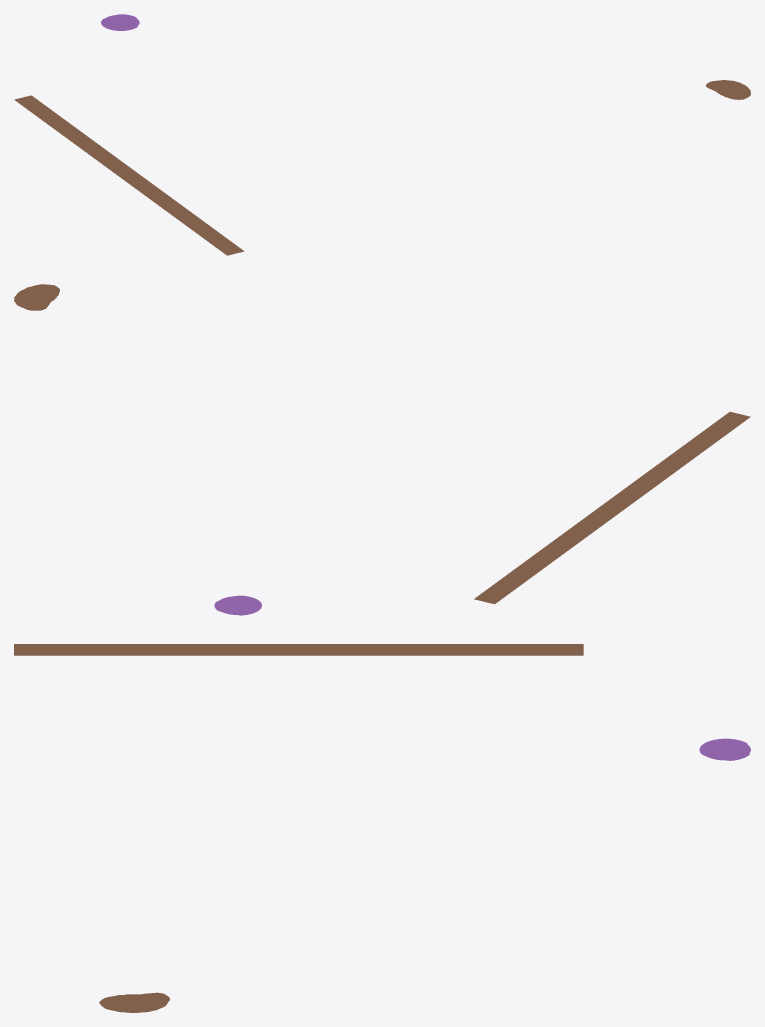
File: ChocolateFactory_Water.fbx
3 renders of one model, top to bottom at view 1: azimuth 30°, elevation 25°; view 2: azimuth 150°, elevation 25°; view 3: azimuth 270°, elevation 25°, orthographic. The views are drawn at different scales.
Parts seen in each view (by area): view 1: CHO_Water_ChocolateRiver, CHO_Water_ChocolateSpill_East, CHO_Water_WitchSludge_North; view 2: CHO_Water_ChocolateRiver, CHO_Water_ChocolateSpill_East, CHO_Water_WitchSludge_North; view 3: CHO_Water_ChocolateRiver, CHO_Water_ChocolateSpill_East, CHO_Water_WitchSludge_North.
Boxes of the visible parts, x1,y1,x2,y2 form: CHO_Water_ChocolateRiver: (14, 95, 244, 255); CHO_Water_ChocolateSpill_East: (705, 80, 750, 99); CHO_Water_WitchSludge_North: (101, 14, 139, 30); CHO_Water_ChocolateRiver: (474, 411, 750, 604); CHO_Water_ChocolateSpill_East: (14, 284, 59, 310); CHO_Water_WitchSludge_North: (214, 595, 261, 615); CHO_Water_ChocolateRiver: (14, 644, 583, 655); CHO_Water_ChocolateSpill_East: (99, 992, 169, 1012); CHO_Water_WitchSludge_North: (699, 738, 750, 760).
Size of the model in its own units: 306 by 0.5679 by 259.
